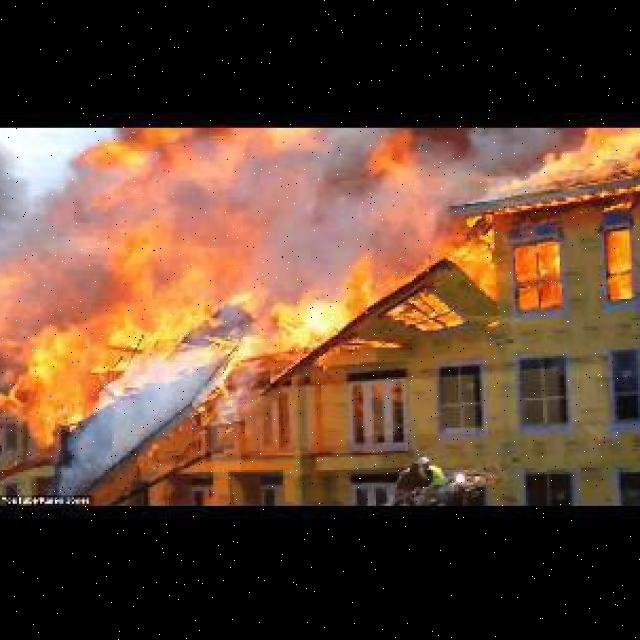fire: (0, 128, 640, 350)
smoke: (61, 350, 224, 495)
